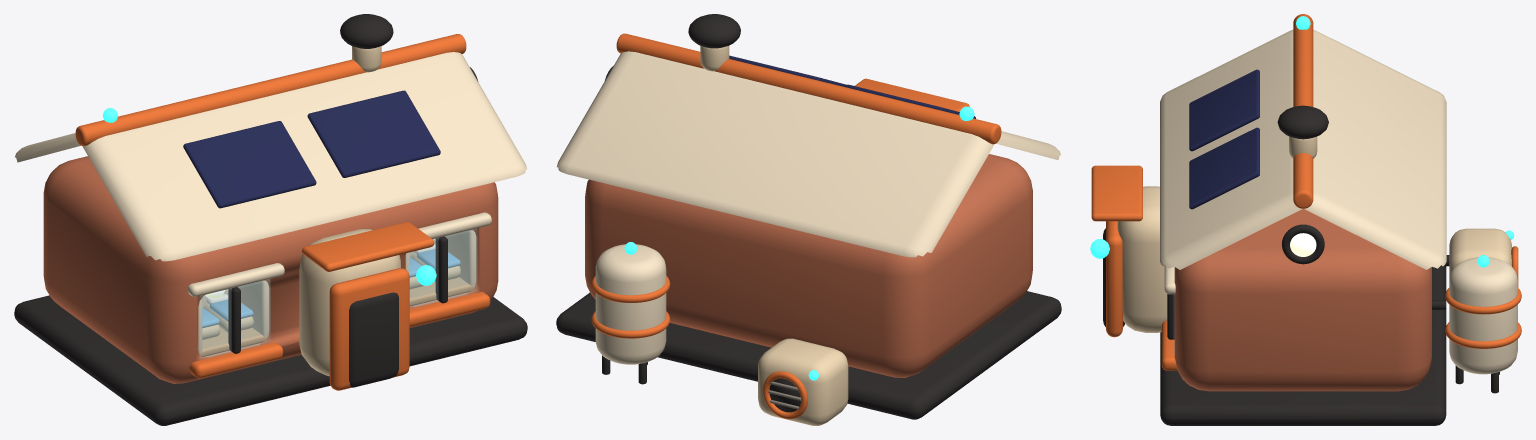
File: brickhome-1.glb
The picture shows the model from 3 angles, left to right: view 1: azimuth 30°, elevation 25°; view 2: azimuth 150°, elevation 25°; view 3: azimuth 270°, elevation 25°; orthographic projection. The views are drawn at different scales.
Parts seen in each view (by area): view 1: Cube.015, Cube.001, Cube, Cube.013, Cube.035, Cube.012, Cube.006, Cube.002, Cube.003, Cube.007, Sphere.002; view 2: Cube.015, Cube.001, Cube, Cube.013, Cube.006, Cube.035; view 3: Cube.015, Cube.001, Cube, Cube.013, Cube.006, Cube.035, Sphere.002, Cylinder.002.
Part boxes in pixels (x1,y1,x2,y2): Cube.015: (15, 52, 526, 296); Cube.001: (43, 156, 498, 383); Cube: (14, 14, 527, 425); Cube.013: (75, 34, 490, 390); Cube.035: (183, 90, 440, 208); Cube.012: (198, 229, 477, 359); Cube.006: (202, 46, 460, 376); Cube.002: (198, 230, 476, 353); Cube.003: (199, 277, 473, 356); Cube.007: (202, 249, 460, 327); Sphere.002: (102, 108, 436, 285); Cube.015: (557, 51, 1060, 364); Cube.001: (585, 154, 1032, 377); Cube: (556, 14, 1061, 419); Cube.013: (591, 33, 1001, 419); Cube.006: (700, 45, 848, 425); Cube.035: (729, 55, 975, 118); Cube.015: (1160, 29, 1517, 374); Cube.001: (1174, 209, 1431, 391); Cube: (1103, 105, 1511, 425); Cube.013: (1091, 14, 1521, 370); Cube.006: (1117, 136, 1511, 332); Cube.035: (1189, 69, 1259, 209); Sphere.002: (1090, 16, 1514, 267); Cylinder.002: (1290, 233, 1316, 256).
Size of the model in its own units: 1.51 by 1.07 by 1.51.
